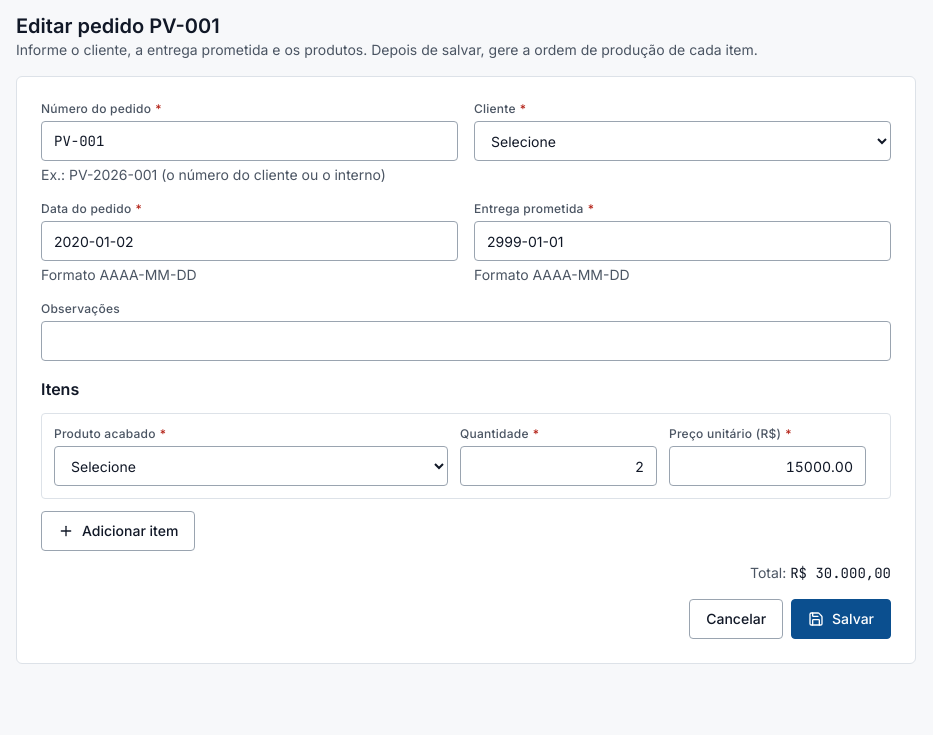
Test: Edicao do pedido de venda › carrega o pedido e mostra a recusa 409 da API em alerta
The width and height of the screenshot is (933, 735).
Expected: the heading "Editar pedido PV-001" is shown, x1=16 y1=14 x2=220 y2=38
Expected: the field labelled "Preço unitário (R$)*" holds "15000.00", x1=669 y1=446 x2=866 y2=486
Click the button "Salvar": x=841, y=619 x1=791 y1=599 x2=891 y2=639
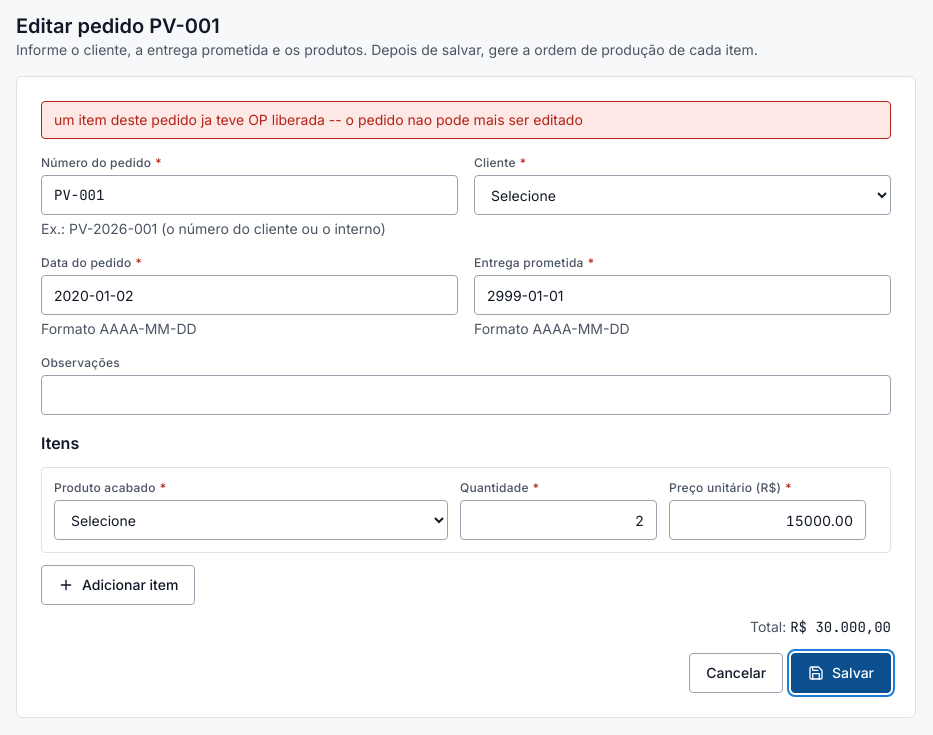
Expected: the message shows "ja teve OP liberada", x1=54 y1=111 x2=583 y2=128
